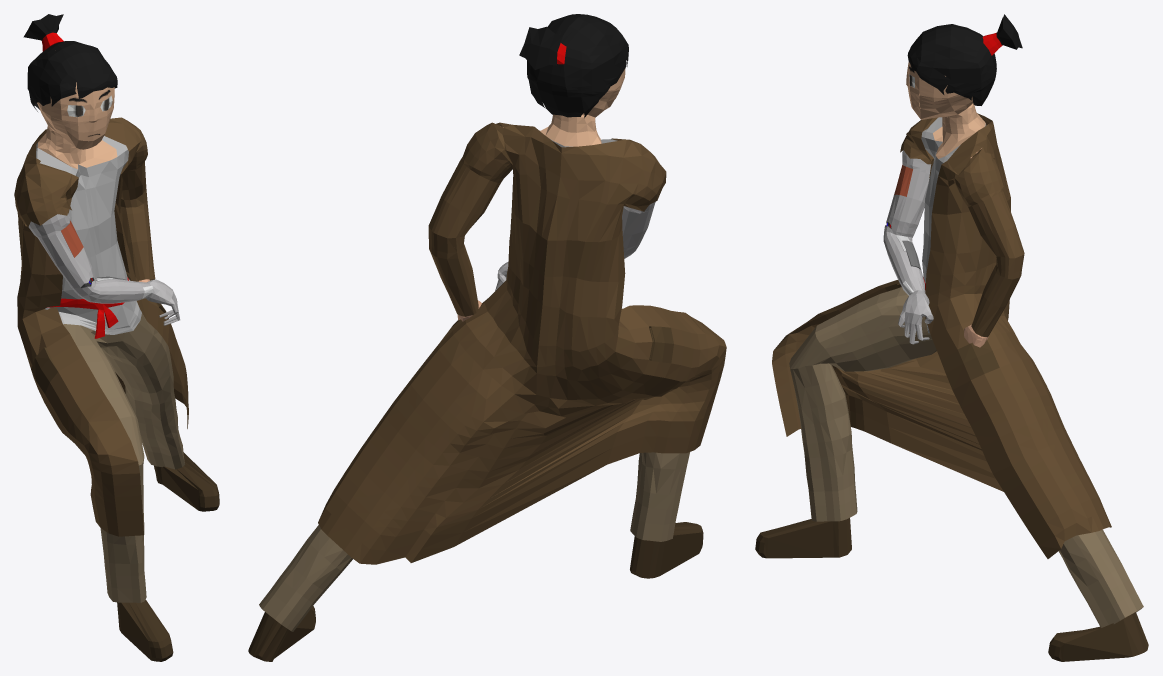
Rendered from One_RL_000012.obj.
3 views of the same model, side by side, from view 1: azimuth 30°, elevation 25°; view 2: azimuth 150°, elevation 25°; view 3: azimuth 270°, elevation 25° (orthographic). The views are drawn at different scales.
Visible parts, largest first — view 1: Hair_Cube.004; view 2: Hair_Cube.004; view 3: Hair_Cube.004.
Boxes of the visible parts, x1,y1,x2,y2 form: Hair_Cube.004: [14, 14, 219, 661]; Hair_Cube.004: [248, 14, 726, 661]; Hair_Cube.004: [755, 14, 1148, 661].
Size of the model in its own units: 1.7 by 3.47 by 2.25.
